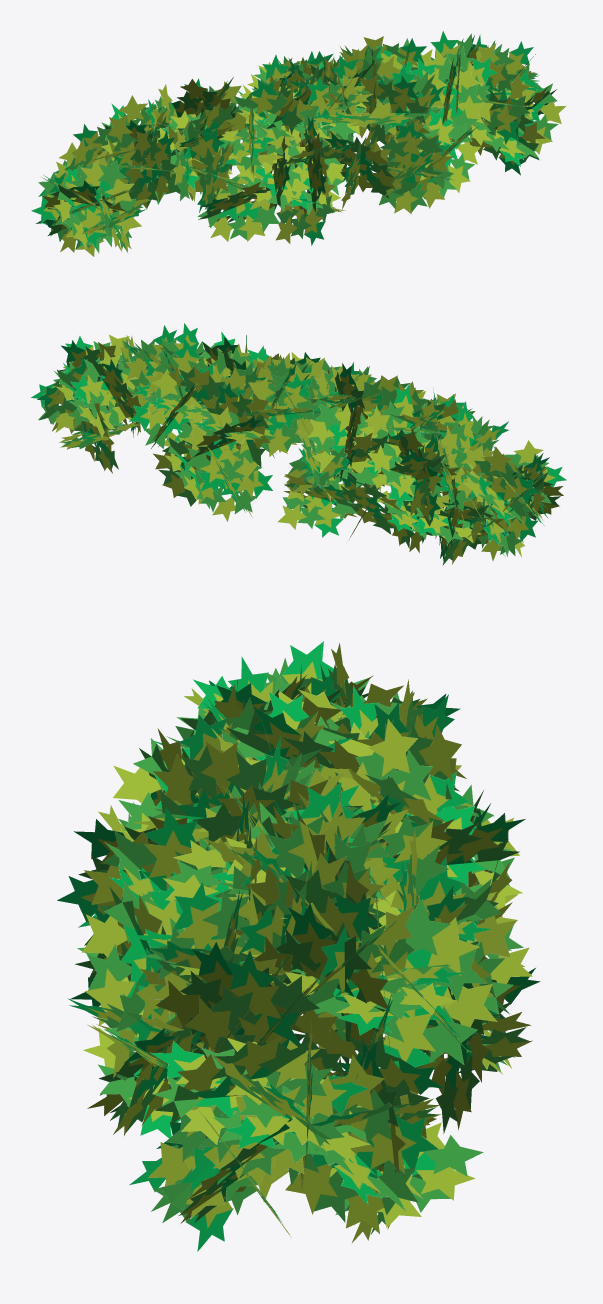
Rendered from Bush 2.fbx.
3 views of the same model, one above another, from view 1: azimuth 30°, elevation 25°; view 2: azimuth 150°, elevation 25°; view 3: azimuth 270°, elevation 25° (orthographic). The views are drawn at different scales.
Visible parts, largest first — view 1: Plane.045; view 2: Plane.045; view 3: Plane.045.
Part boxes in pixels (x1,y1,x2,y2): Plane.045: [31, 31, 566, 256]; Plane.045: [31, 323, 566, 565]; Plane.045: [57, 641, 540, 1251].
Size of the model in its own units: 467 by 144 by 210.
